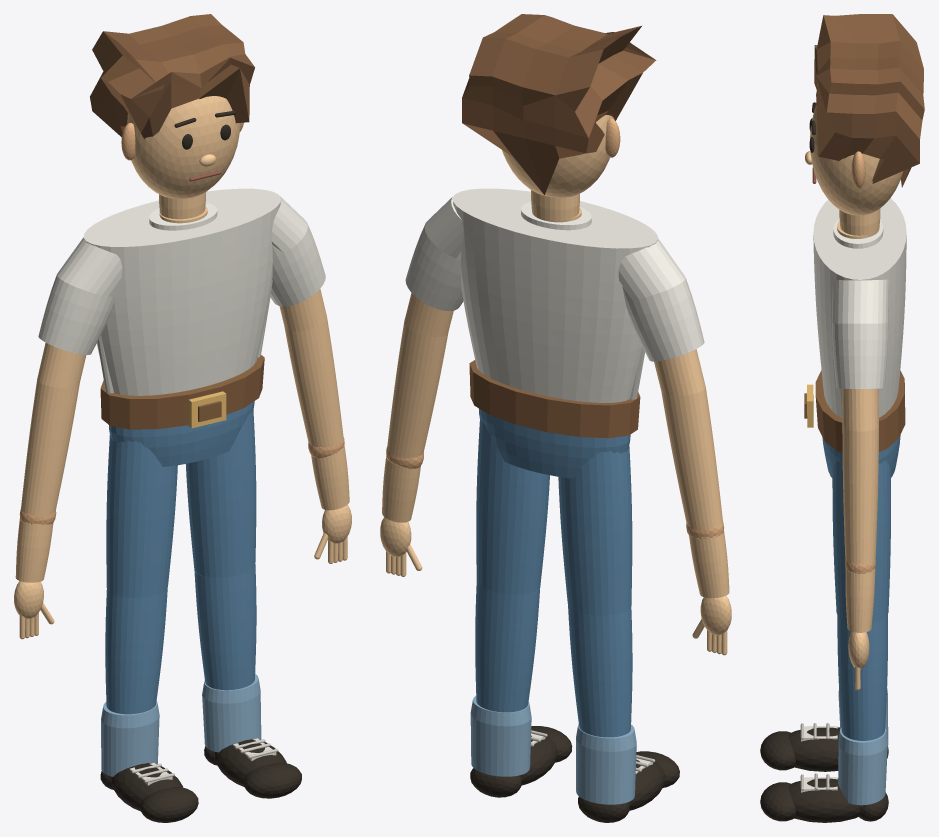
The model's file is HombreGenerico.glb.
3 renders of one model, left to right at view 1: azimuth 30°, elevation 25°; view 2: azimuth 150°, elevation 25°; view 3: azimuth 270°, elevation 25°, orthographic. The views are drawn at different scales.
Parts seen in each view (by area): view 1: camiseta torso base, Cube.001, jean muslo L, jean muslo R, cabeza rostro, brazo piel L, jean pierna L, jean pierna R, manga camiseta L, brazo piel R, brown_belt, manga camiseta R (+14 smaller); view 2: camiseta torso base, Cube.001, jean muslo L, jean muslo R, brazo piel L, jean pierna L, jean pierna R, manga camiseta L, brazo piel R, brown_belt, cadera jeans, manga camiseta R (+13 smaller); view 3: Cube.001, camiseta torso base, brazo piel R, manga camiseta R, jean pierna R, jean muslo R, cabeza rostro, dobladillo jean R, brown_belt, cuerpo tenis R, cuerpo tenis L, antebrazo piel R (+8 smaller).
Part boxes in pixels (box(x1,y1,x2,y2)): camiseta torso base: box(83, 188, 280, 395); Cube.001: box(90, 14, 254, 138); jean muslo L: box(106, 435, 177, 597); jean muslo R: box(185, 410, 256, 577); cabeza rostro: box(127, 96, 240, 198); brazo piel L: box(20, 343, 86, 524); jean pierna L: box(105, 588, 167, 714); jean pierna R: box(194, 564, 256, 690); manga camiseta L: box(38, 237, 122, 354); brazo piel R: box(279, 289, 344, 454); brown_belt: box(100, 355, 264, 429); manga camiseta R: box(270, 196, 325, 306); camiseta torso base: box(452, 188, 657, 402); Cube.001: box(462, 14, 656, 194); jean muslo L: box(558, 446, 632, 615); jean muslo R: box(476, 419, 549, 594); brazo piel L: box(654, 349, 723, 538); jean pierna L: box(568, 605, 632, 737); jean pierna R: box(475, 579, 540, 712); manga camiseta L: box(618, 238, 704, 361); brazo piel R: box(386, 293, 453, 466); brown_belt: box(469, 360, 640, 438); cadera jeans: box(478, 408, 630, 478); manga camiseta R: box(405, 195, 463, 311); Cube.001: box(814, 14, 924, 187); camiseta torso base: box(813, 198, 906, 418); brazo piel R: box(842, 388, 878, 572); manga camiseta R: box(832, 279, 889, 388); jean pierna R: box(837, 614, 887, 740); jean muslo R: box(832, 461, 890, 622); cabeza rostro: box(810, 105, 903, 215); dobladillo jean R: box(838, 727, 887, 805); brown_belt: box(815, 370, 905, 452); cuerpo tenis R: box(788, 778, 861, 822); cuerpo tenis L: box(788, 727, 840, 771); antebrazo piel R: box(845, 569, 875, 632).
Size of the model in its own units: 2.73 by 5.85 by 1.16.
